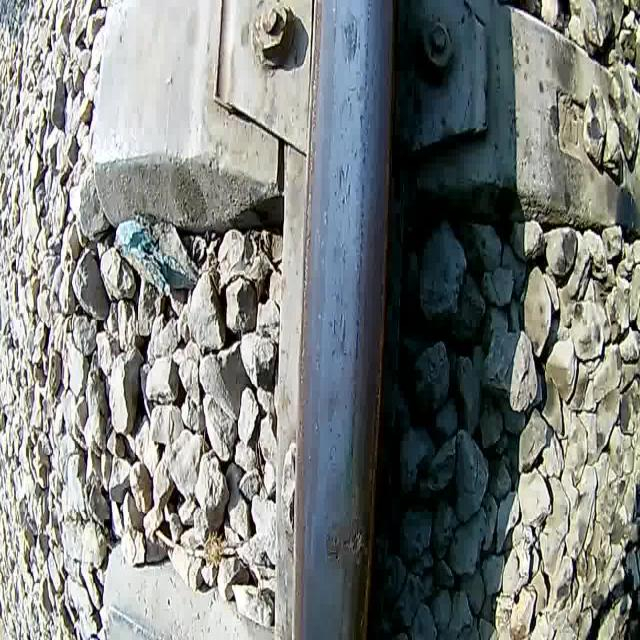Squats: (324, 509, 368, 583), (338, 8, 363, 74)
